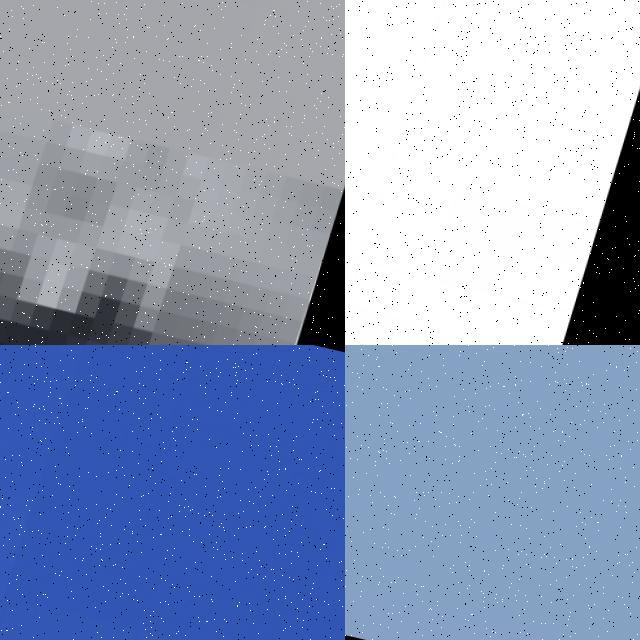0: (0, 0, 345, 345)
drone: (345, 0, 640, 345), (0, 345, 345, 640)
